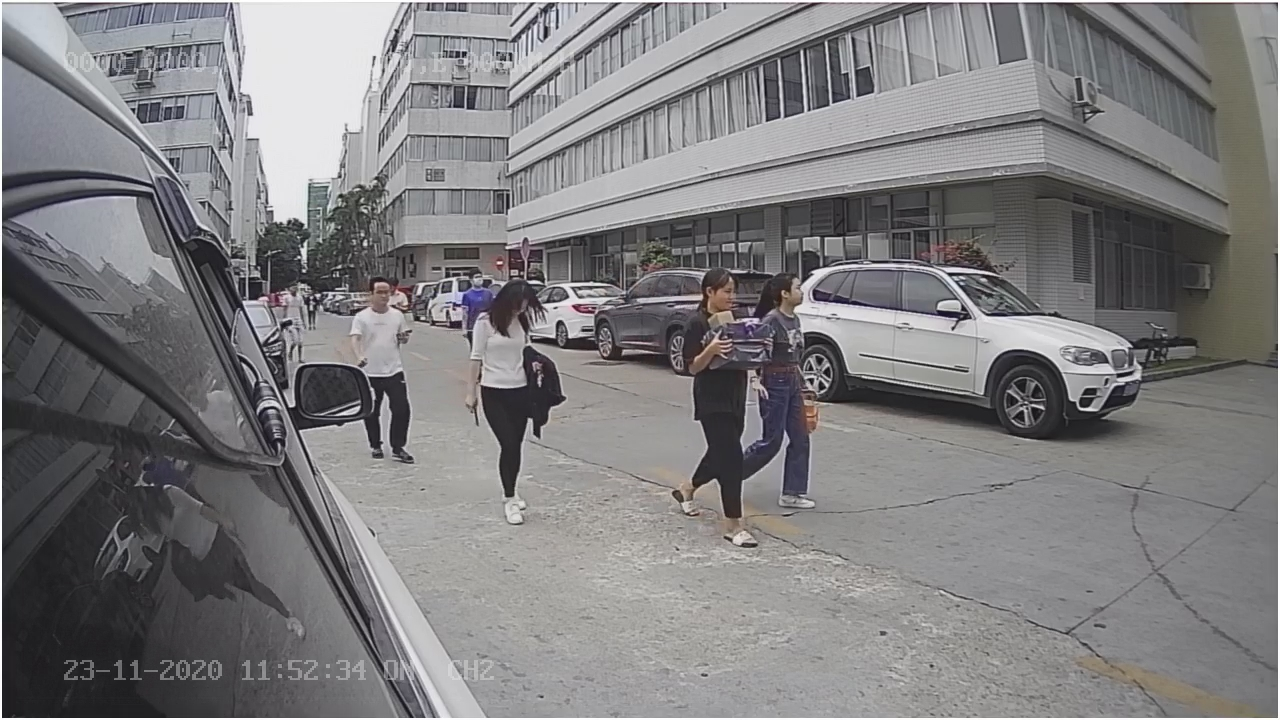person: (473, 274, 541, 524)
